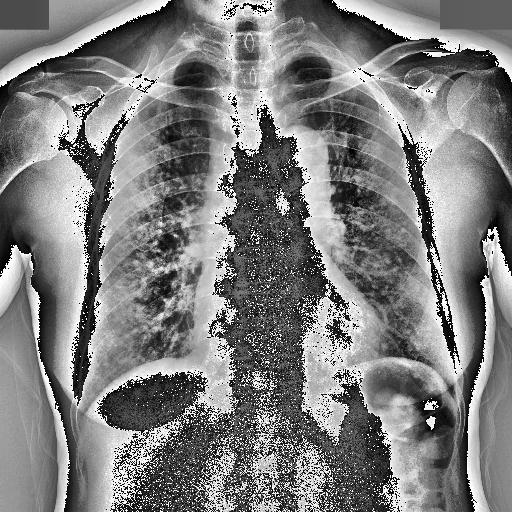0- Aortic enlargement: (260, 124, 331, 200), (274, 125, 332, 194), (279, 126, 329, 185)
5- ILD: (72, 64, 230, 390), (291, 92, 427, 374), (324, 102, 456, 382), (78, 111, 202, 383), (80, 112, 202, 386), (297, 114, 417, 355)
8- Nodule-Mass: (324, 102, 456, 382), (80, 112, 202, 386)
